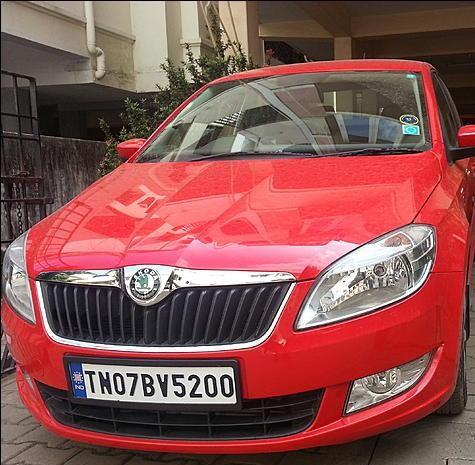License-Plate: (64, 356, 240, 406)
